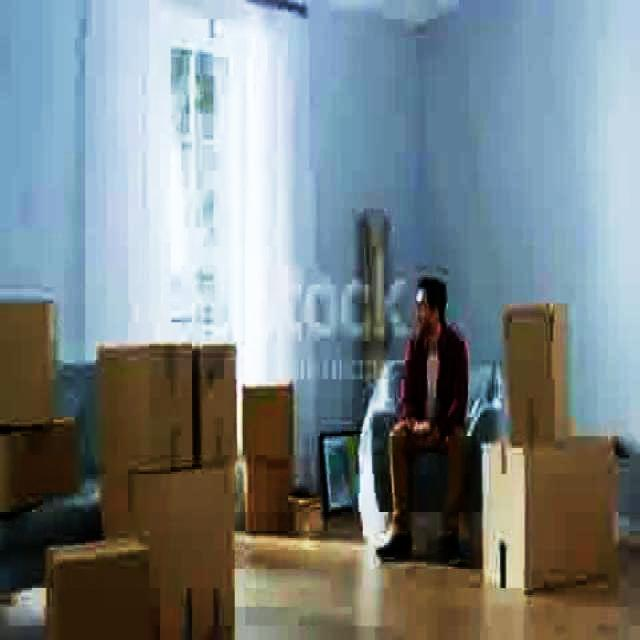Box: (478, 439, 614, 577), (155, 479, 231, 632), (101, 335, 192, 456), (52, 539, 146, 640), (503, 314, 574, 434), (1, 292, 59, 425), (3, 418, 80, 501), (197, 352, 244, 456)
